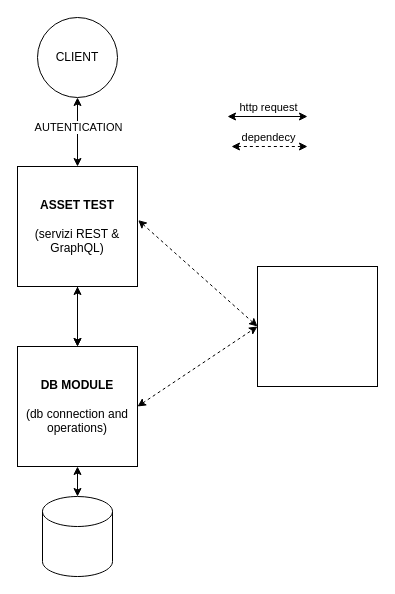
Some shapes in this 395 by 594 pixel diagram are drawn without their labels. Each missing label, with the box of its shape:
COMMUNICATION MODULE (entities): (256, 266, 378, 386)
postgresQL: (42, 496, 112, 576)
